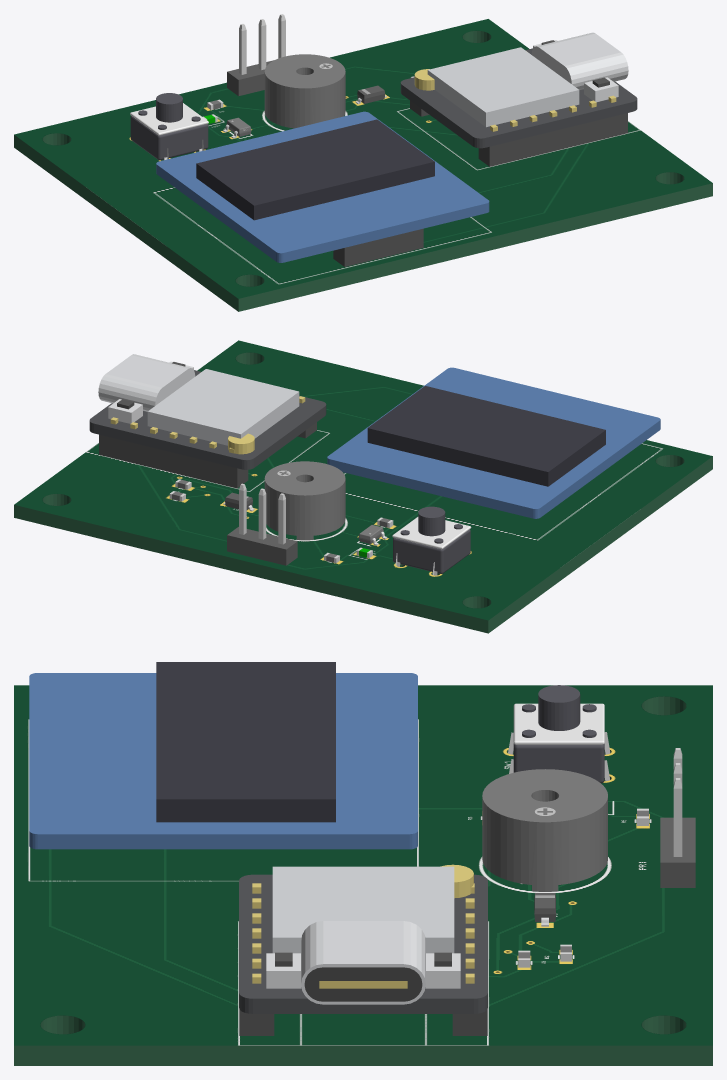
File: board.glb
3 renders of one model, top to bottom at view 1: azimuth 30°, elevation 25°; view 2: azimuth 150°, elevation 25°; view 3: azimuth 270°, elevation 25°, orthographic. The views are drawn at different scales.
Visible parts, largest first — view 1: Box0, DS1, U1, BZ1, SW1, PR1; view 2: Box0, DS1, U1, BZ1, SW1, PR1; view 3: Box0, DS1, U1, BZ1, SW1, PR1, D1.
Boxes of the visible parts, box(x1,y1,x2,y2) form: Box0: box(14, 19, 712, 311); DS1: box(156, 111, 489, 266); U1: box(400, 32, 637, 166); BZ1: box(264, 54, 345, 128); SW1: box(130, 93, 208, 160); PR1: box(227, 14, 285, 96); Box0: box(14, 340, 712, 633); DS1: box(327, 367, 660, 518); U1: box(89, 354, 326, 488); BZ1: box(264, 461, 345, 540); SW1: box(392, 506, 471, 575); PR1: box(227, 483, 297, 565); Box0: box(14, 685, 712, 1065); DS1: box(29, 662, 417, 849); U1: box(239, 864, 487, 1035); BZ1: box(482, 769, 607, 891); SW1: box(508, 685, 610, 783); PR1: box(660, 748, 695, 887); D1: box(534, 893, 555, 926).
Size of the model in its own units: 62.08 by 12.5 by 50.
Materials: 24 (2 with a texture image).
